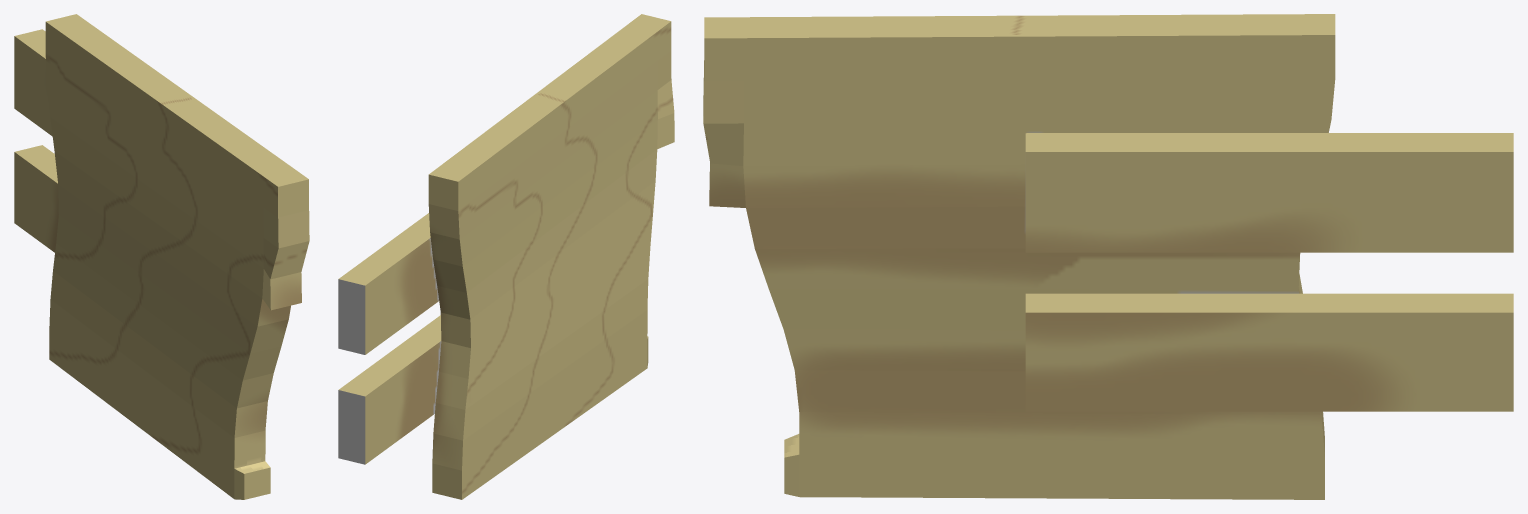
Rendered from scoreBoard.fbx.
3 views of the same model, side by side, from view 1: azimuth 30°, elevation 25°; view 2: azimuth 150°, elevation 25°; view 3: azimuth 270°, elevation 25° (orthographic). The views are drawn at different scales.
Visible parts, largest first — view 1: Cube.016; view 2: Cube.016; view 3: Cube.016.
Part boxes in pixels (left/top/right/bottom): Cube.016: left=14, top=14, right=309, bottom=499; Cube.016: left=338, top=14, right=674, bottom=499; Cube.016: left=703, top=14, right=1513, bottom=499.
Bounding box in the file's own units: 40.62 × 199 × 314.
